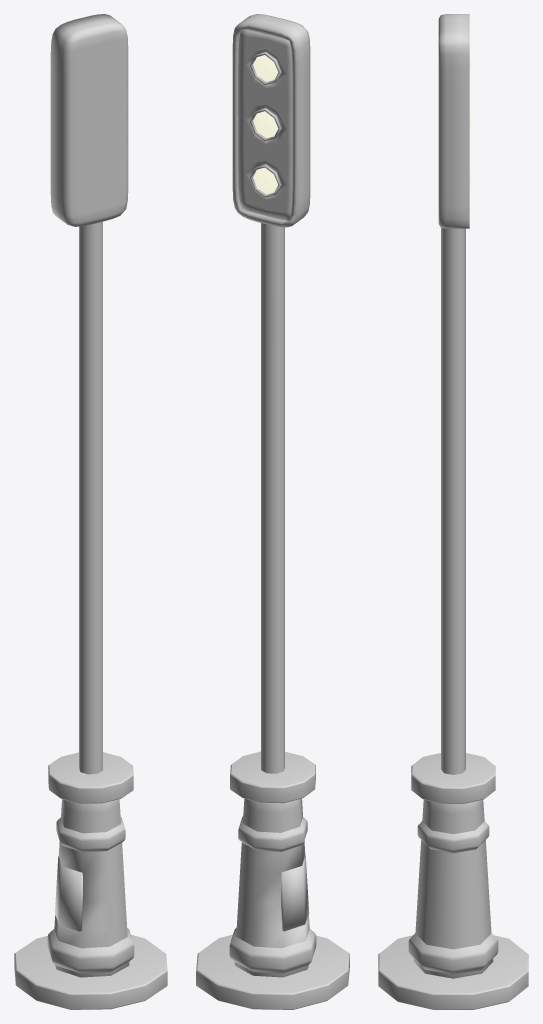
File: traffic_light3.fbx
3 renders of one model, left to right at view 1: azimuth 30°, elevation 25°; view 2: azimuth 150°, elevation 25°; view 3: azimuth 270°, elevation 25°, orthographic.
Parts seen in each view (by area): view 1: TrafficLight.006; view 2: TrafficLight.006; view 3: TrafficLight.006.
Part boxes in pixels (box(x1,y1,x2,y2)): TrafficLight.006: box(14, 14, 167, 1009); TrafficLight.006: box(196, 14, 349, 1009); TrafficLight.006: box(378, 14, 528, 1009).
Size of the model in its own units: 60.67 by 425 by 60.67.
